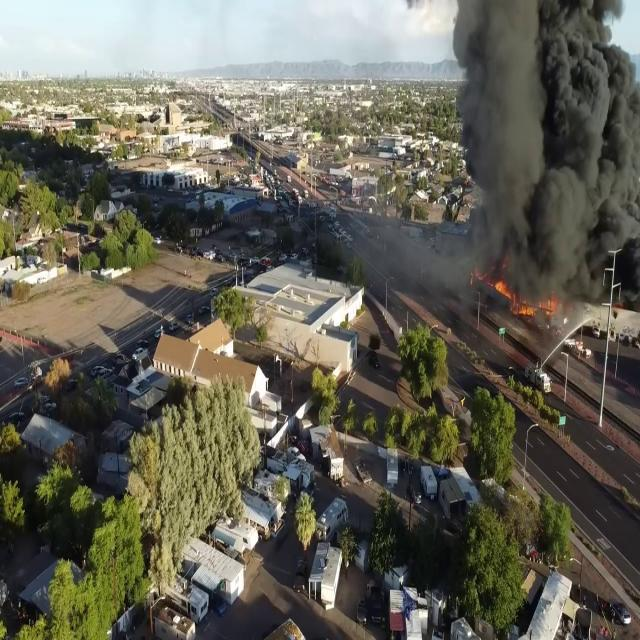Fire: (485, 274, 553, 322)
Smoke: (429, 0, 640, 320), (362, 207, 484, 315)
